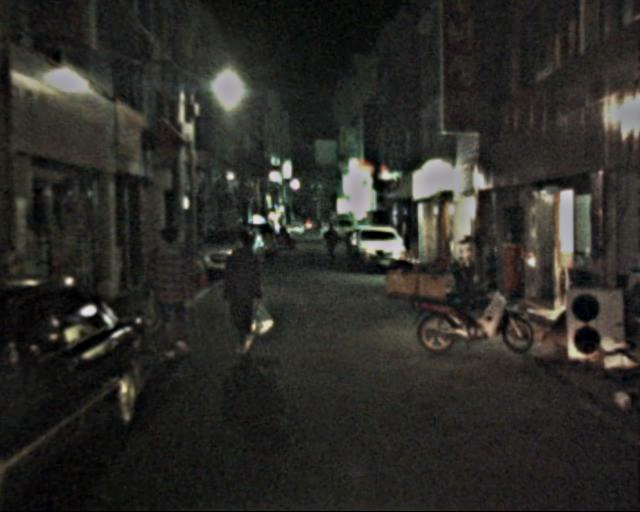person: (141, 223, 201, 360), (215, 230, 271, 353), (322, 221, 342, 265)
